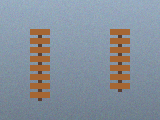insulator: (28, 27, 52, 102), (108, 27, 132, 93), (150, 100, 160, 120)
